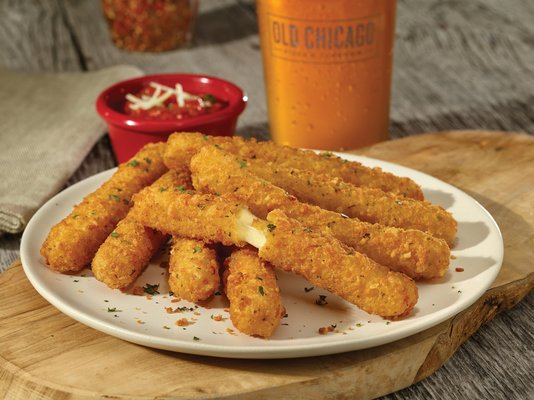pizza: (255, 0, 397, 153)
sushi: (93, 72, 246, 166)
